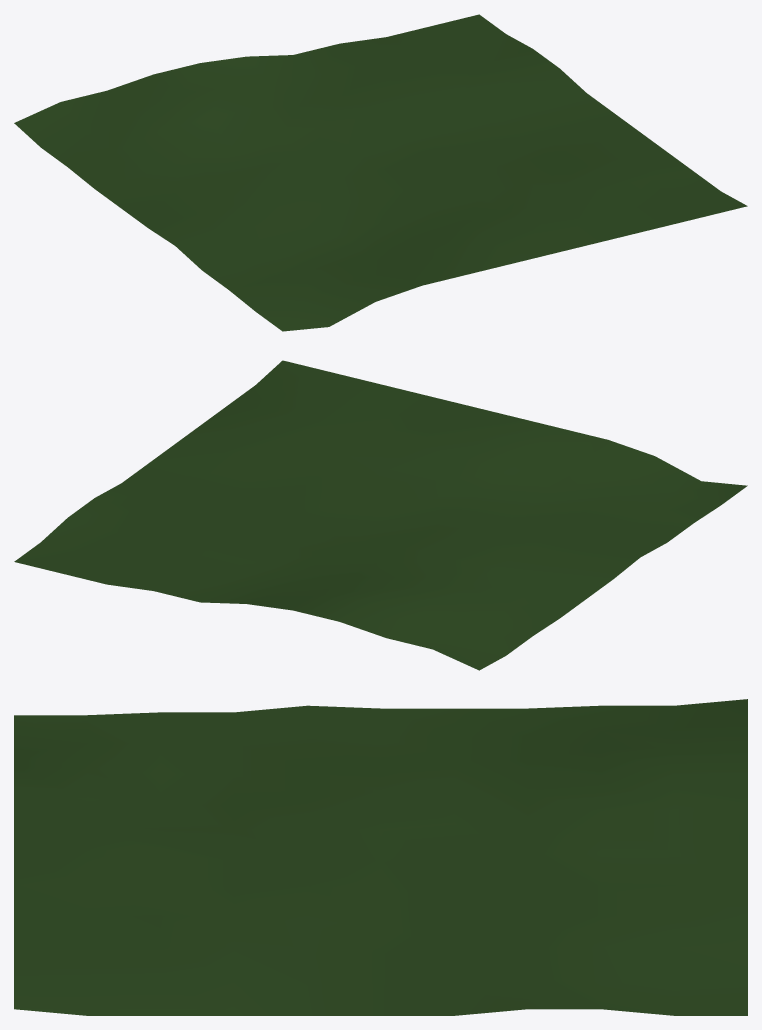
3 views of the same model, one above another, from view 1: azimuth 30°, elevation 25°; view 2: azimuth 150°, elevation 25°; view 3: azimuth 270°, elevation 25° (orthographic). The views are drawn at different scales.
Visible parts, largest first — view 1: TerrainModel.023; view 2: TerrainModel.023; view 3: TerrainModel.023.
Boxes of the visible parts, box(x1,y1,x2,y2) form: TerrainModel.023: box(14, 14, 747, 331); TerrainModel.023: box(14, 360, 747, 670); TerrainModel.023: box(14, 699, 747, 1015).
Size of the model in its own units: 19608 by 1338 by 19608.
